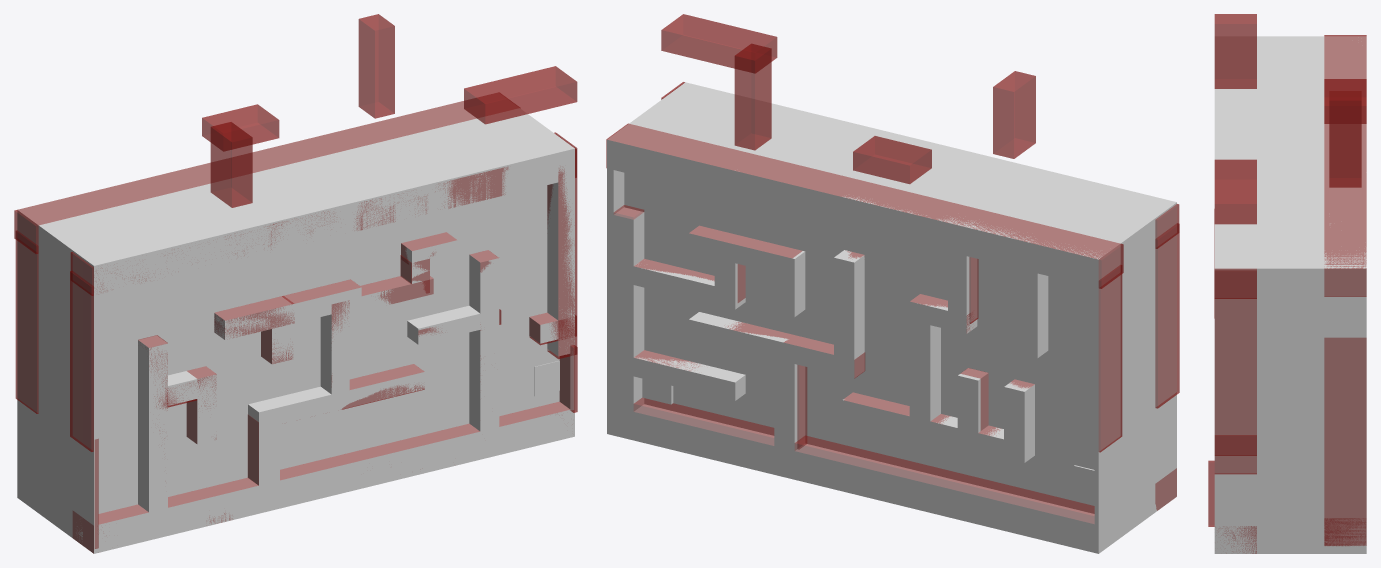
3 views of the same model, side by side, from view 1: azimuth 30°, elevation 25°; view 2: azimuth 150°, elevation 25°; view 3: azimuth 270°, elevation 25° (orthographic). The views are drawn at different scales.
Parts seen in each view (by area): view 1: Cube.001, Cube__44_, Cube.002, Cube, Cube2, Cube__25__1; view 2: Cube.002, Cube, Cube.001, Cube__44_; view 3: Cube.001, Cube.002, Cube, Cube__44_.
Part boxes in pixels (<box>): Cube.001: <box>55,120,574,553</box>; Cube__44_: <box>70,66,577,553</box>; Cube.002: <box>17,93,535,525</box>; Cube: <box>14,14,577,548</box>; Cube2: <box>534,360,559,396</box>; Cube__25__1: <box>280,418,305,452</box>; Cube.002: <box>607,111,1137,553</box>; Cube: <box>606,43,1123,523</box>; Cube.001: <box>646,82,1176,524</box>; Cube__44_: <box>661,14,1179,510</box>; Cube.001: <box>1214,36,1291,553</box>; Cube.002: <box>1291,36,1366,553</box>; Cube: <box>1208,35,1366,545</box>; Cube__44_: <box>1214,14,1256,553</box>.
Bounding box in the file's own units: 1809 × 1416 × 515.
